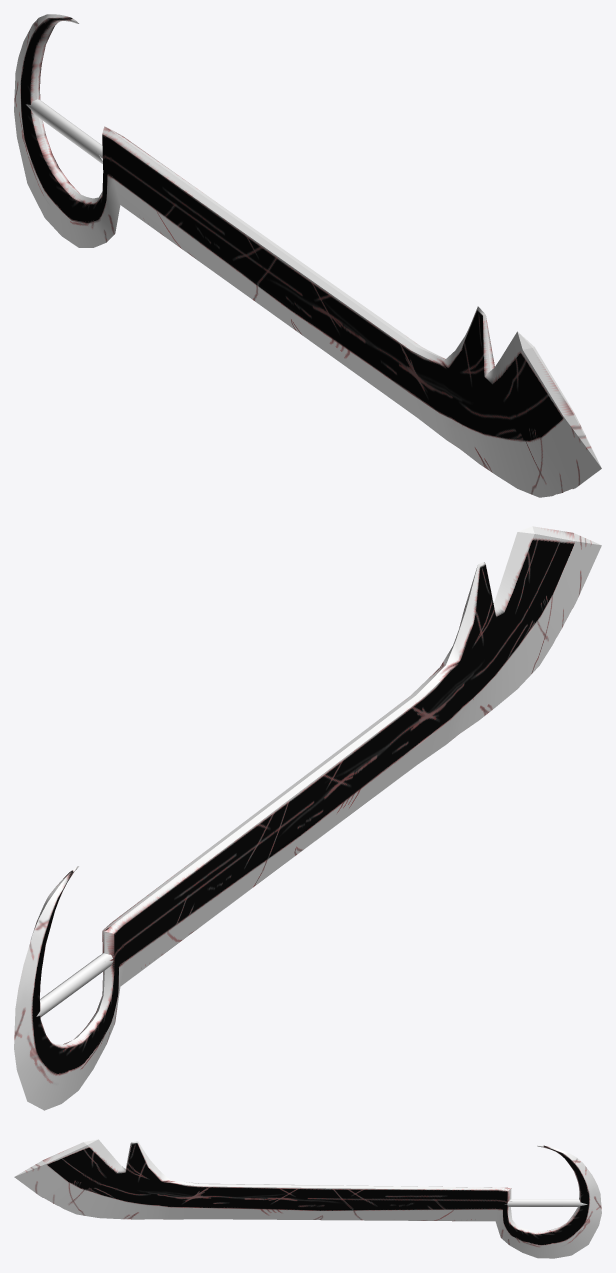
Rendered from T2Hsword.fbx.
3 renders of one model, top to bottom at view 1: azimuth 30°, elevation 25°; view 2: azimuth 150°, elevation 25°; view 3: azimuth 270°, elevation 25°, orthographic. The views are drawn at different scales.
Visible parts, largest first — view 1: polySurface2; view 2: polySurface2; view 3: polySurface2.
Part boxes in pixels (bbox=[...]): polySurface2: bbox=[14, 14, 601, 497]; polySurface2: bbox=[14, 526, 601, 1110]; polySurface2: bbox=[14, 1139, 601, 1258].
Bounding box in the file's own units: 1.13 × 21.55 × 96.31.
